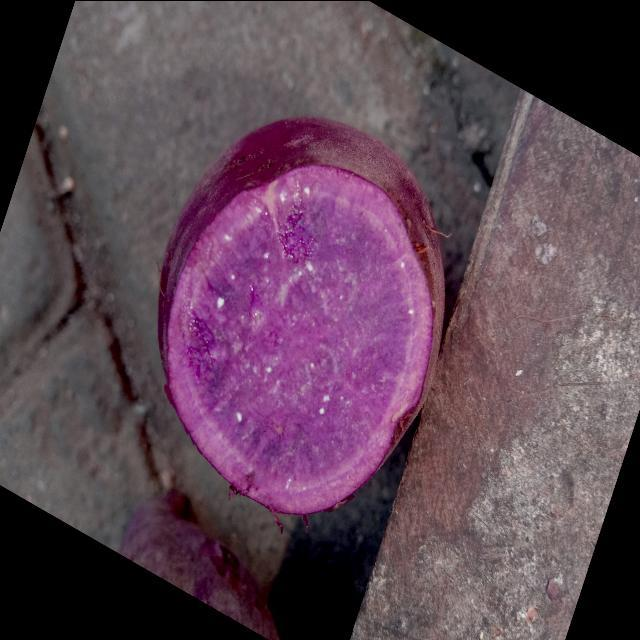Healthy Sweet Potato: (168, 165, 434, 513)
